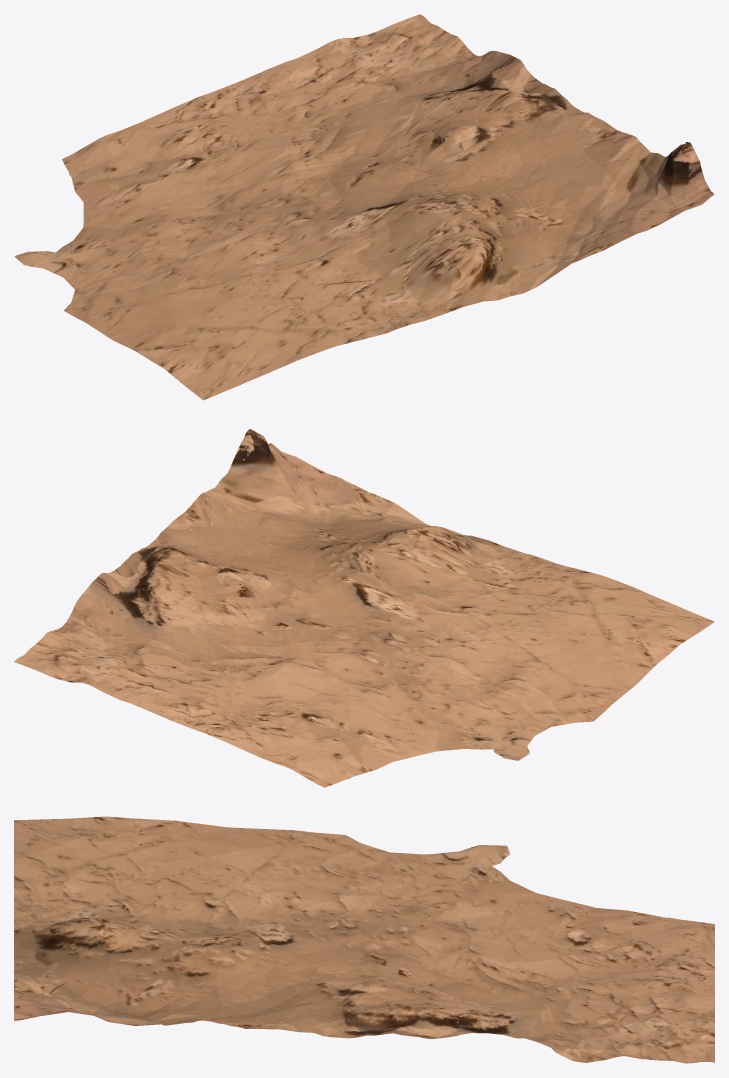
The picture shows the model from 3 angles, top to bottom: view 1: azimuth 30°, elevation 25°; view 2: azimuth 150°, elevation 25°; view 3: azimuth 270°, elevation 25°; orthographic projection. The views are drawn at different scales.
Size of the model in its own units: 1.04 by 0.2483 by 1.04.
2 materials, 2 textured.
